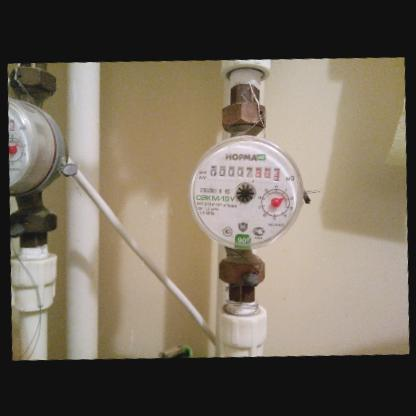digital_screen: (206, 159, 254, 181)
